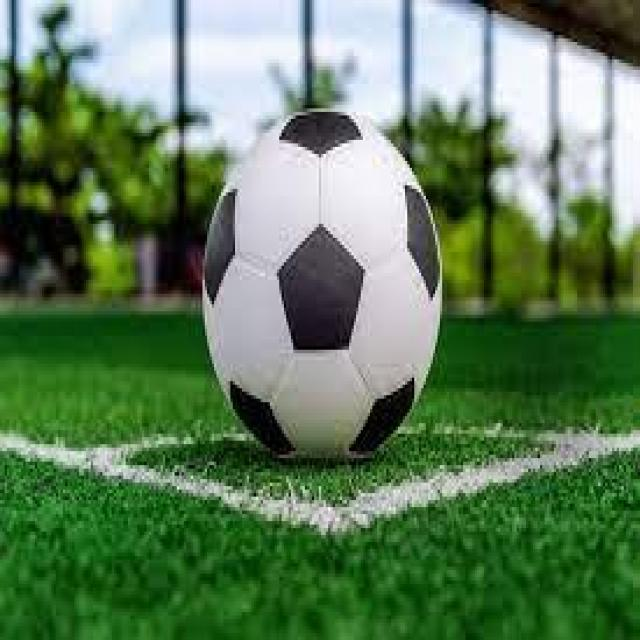Soccer Ball: (203, 116, 442, 451)
